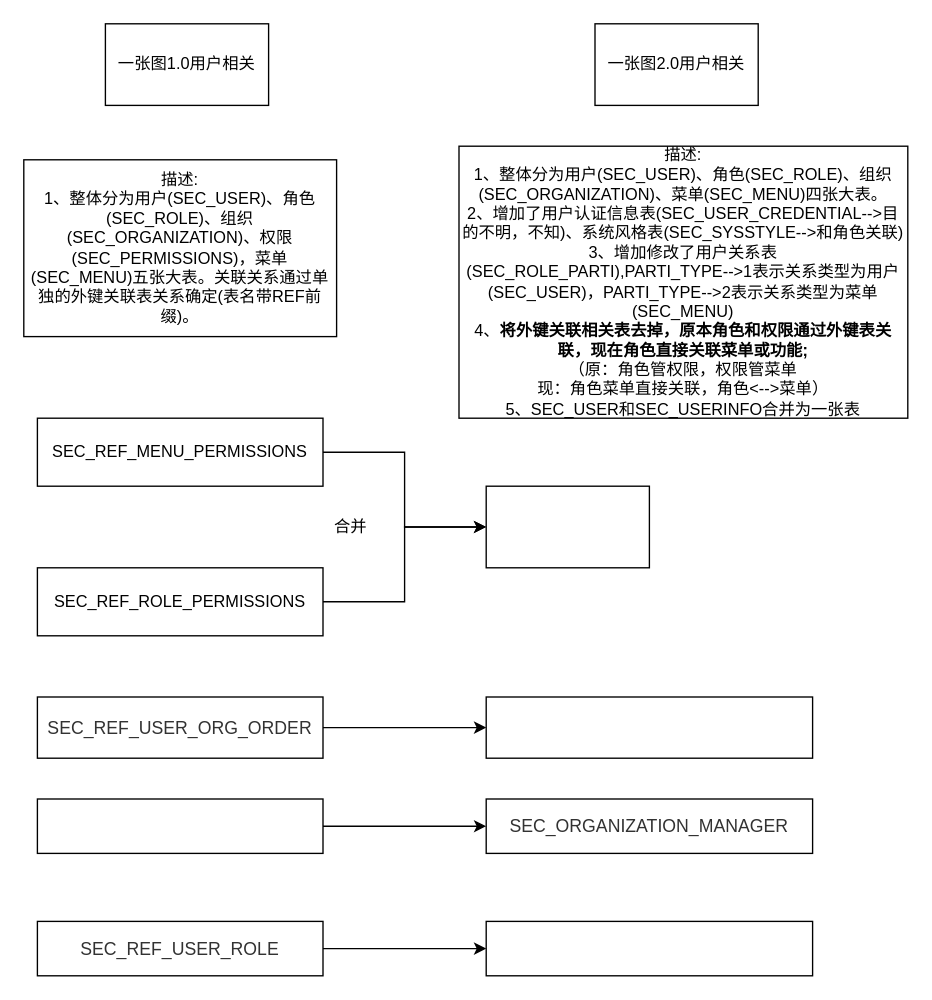
Some shapes in this 932 by 1000 pixel diagram are drawn without their labels. The shapes that lost their labels are listed below. From the top down, each one's box as (x1, y1, x2, y2) in pixels, then its label:
(485, 485, 649, 568): SEC_ROLE_AUTH
(485, 696, 813, 758): SEC_USER_ORG
(36, 798, 323, 853): SEC_REF_USER_ORGANIZATION
(485, 920, 813, 976): SEC_ROLE_PARTI
